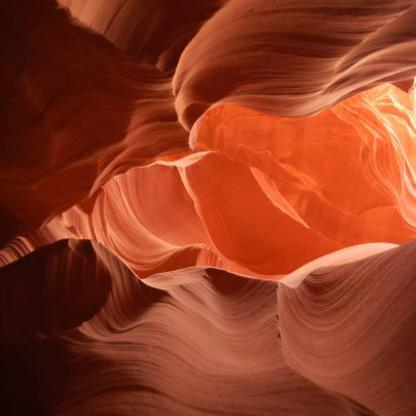Sedimentary_Sandstone: (0, 5, 155, 235), (173, 115, 415, 220), (275, 240, 415, 415), (163, 11, 408, 92)
